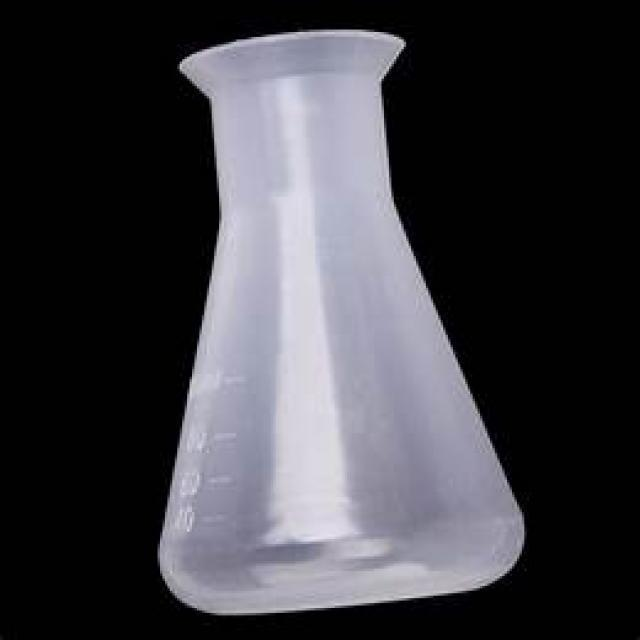Titrarion: (150, 30, 533, 616)
